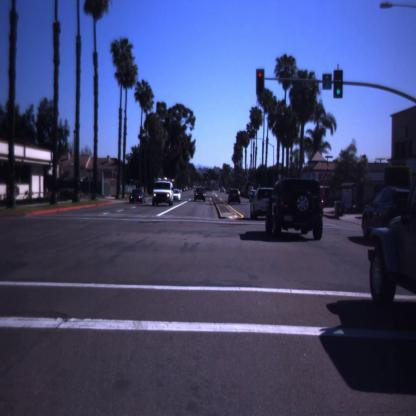trafficlight: (252, 66, 270, 97), (333, 67, 346, 100)
